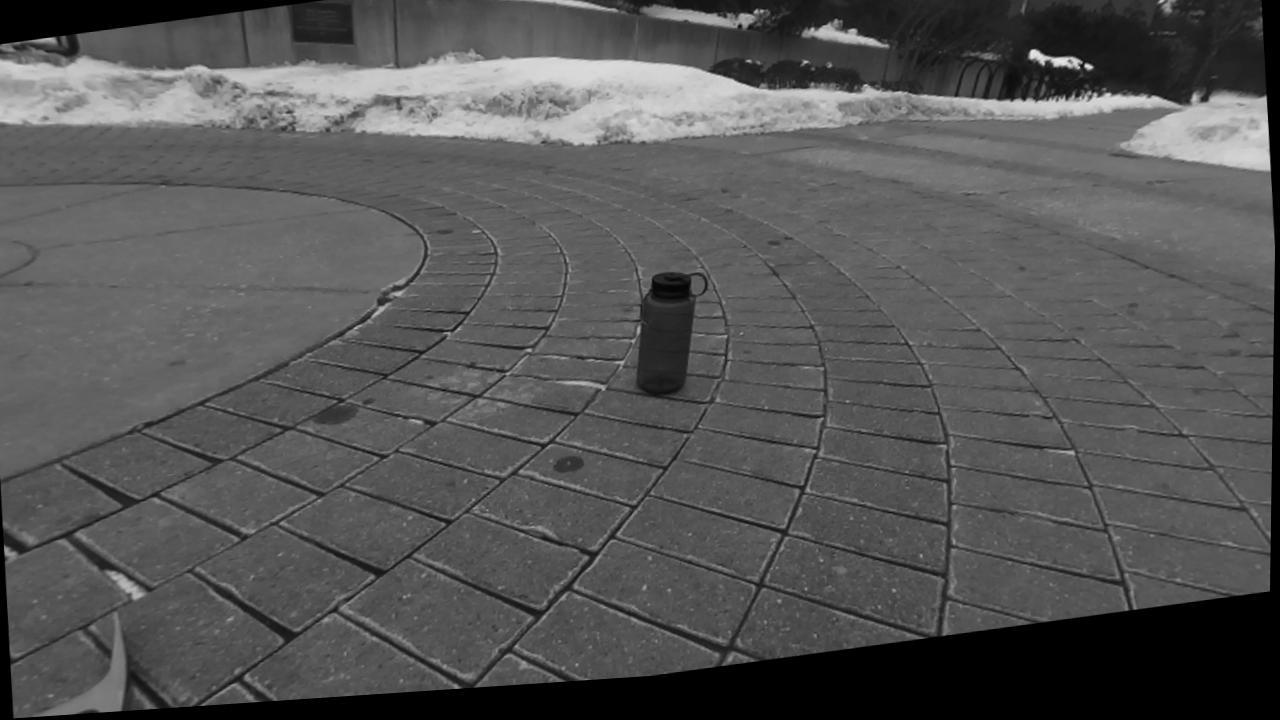bottle: (636, 271, 707, 393)
